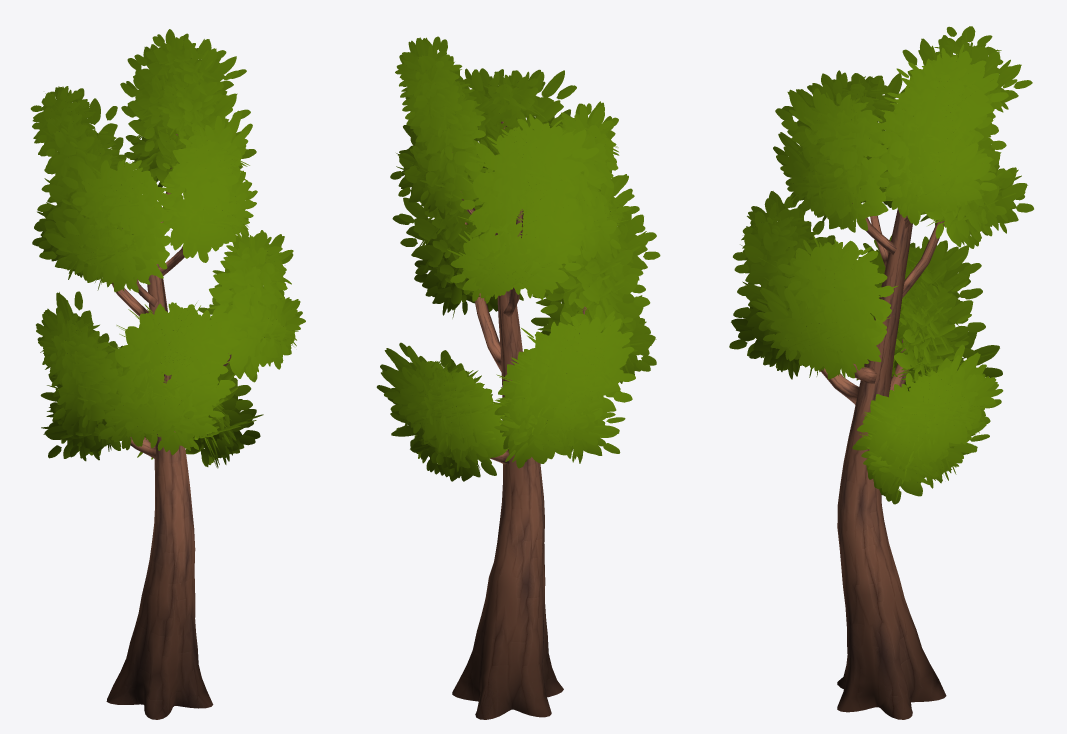
File: CommonTree_3.glb
3 views of the same model, side by side, from view 1: azimuth 30°, elevation 25°; view 2: azimuth 150°, elevation 25°; view 3: azimuth 270°, elevation 25° (orthographic). The views are drawn at different scales.
Visible parts, largest first — view 1: CommonTree_3; view 2: CommonTree_3; view 3: CommonTree_3.
Boxes of the visible parts, box(x1,y1,x2,y2) form: CommonTree_3: box(30, 29, 305, 719); CommonTree_3: box(376, 36, 660, 719); CommonTree_3: box(729, 26, 1033, 719).
Bounding box in the file's own units: 4.06 × 9.43 × 4.24.
Materials: 2 (2 with a texture image).
